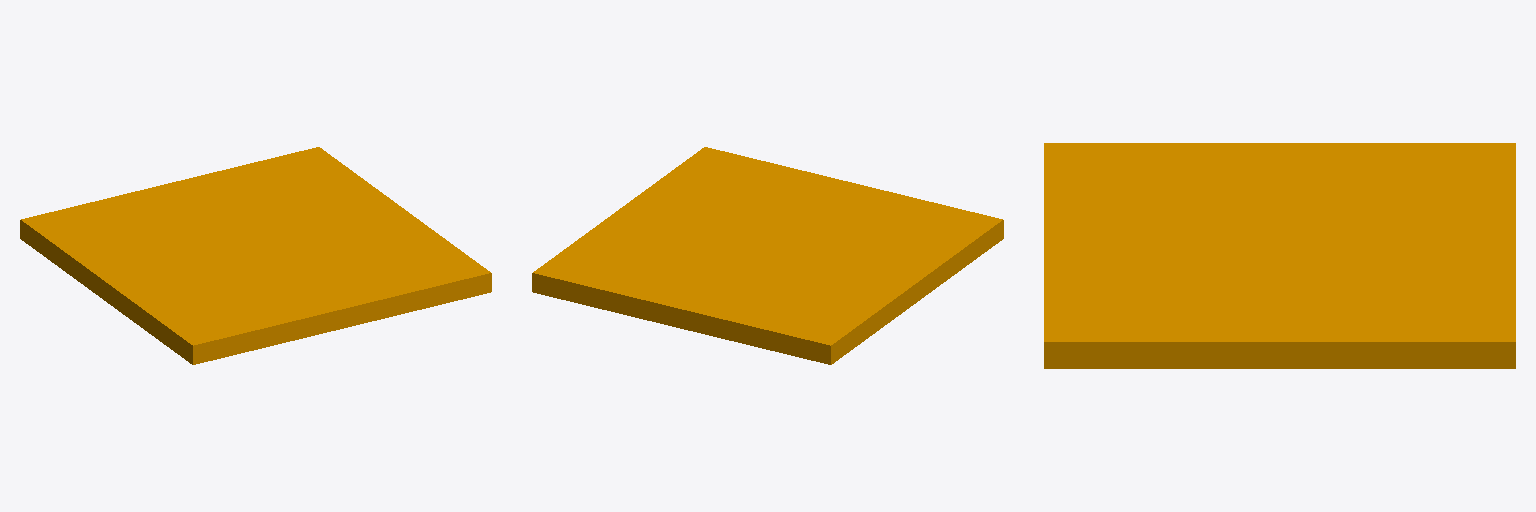
robot.urdf — unnamed:
<?xml version="1.0"?>
<!-- created with Phobos 1.0.1 "Capricious Choutengan" -->
  <robot name="unnamed">

    <link name="base_link">
      <inertial>
        <origin xyz="0 0 0" rpy="0 0 0"/>
        <mass value="0.001"/>
        <inertia ixx="0.001" ixy="0" ixz="0" iyy="0.001" iyz="0" izz="0.001"/>
      </inertial>
      <visual name="visual_Cube">
        <origin xyz="0 0 0" rpy="0 0 0"/>
        <geometry>
          <box size="16.0 16.0 1.0"/>
        </geometry>
      </visual>
      <collision name="collision_Cube">
        <origin xyz="0 0 0" rpy="0 0 0"/>
        <geometry>
          <box size="16.0 16.0 1.0"/>
        </geometry>
      </collision>
    </link>

    <link name="link_cog">
      <inertial>
        <origin xyz="0 0 0" rpy="0 0 0"/>
        <mass value="0.001"/>
        <inertia ixx="0.001" ixy="0" ixz="0" iyy="0.001" iyz="0" izz="0.001"/>
      </inertial>
      <visual name="visual_Torus">
        <origin xyz="0 0 0" rpy="0 0 0"/>
        <geometry>
          <mesh filename="file://[local-path]/ba/puzzle-generator/puzzles/sampleworld/meshes/stl/Torus.002.stl" scale="1.0 1.0 1.0"/>
        </geometry>
        <material name="Material.002"/>
      </visual>
      <collision name="collision_Torus">
        <origin xyz="0 0 0" rpy="0 0 0"/>
        <geometry>
          <mesh filename="file://[local-path]/ba/puzzle-generator/puzzles/sampleworld/meshes/stl/Torus.003.stl" scale="1.0 1.0 1.0"/>
        </geometry>
      </collision>
    </link>

    <joint name="link_cog" type="continuous">
      <origin xyz="0 0 0.53454" rpy="0 0 0"/>
      <parent link="base_link"/>
      <child link="link_cog"/>
      <axis xyz="0 0 1.0"/>
      <limit effort="0" velocity="0"/>
    </joint>

    <material name="Material.002">
      <color rgba="0.8 0.8 0.8 1.0"/>
    </material>

  </robot>

--- Facts derived from the render (not from the file) ---
The picture shows the robot from 3 angles, left to right: view 1: azimuth 30°, elevation 25°; view 2: azimuth 150°, elevation 25°; view 3: azimuth 270°, elevation 25°; orthographic projection.
Robot: unnamed — 2 links, 1 joints (1 continuous); root link base_link; default pose: every joint at zero.
Links seen in each view (by area): view 1: base_link; view 2: base_link; view 3: base_link.
Boxes of the visible links, x1,y1,x2,y2 form: base_link: (20, 147, 491, 364); base_link: (532, 147, 1003, 364); base_link: (1044, 143, 1515, 368).
Size in the robot's own frame: 16 by 16 by 1 metres.
Geometry: only primitive shapes (box / cylinder / sphere) drawn; not drawn: 1 mesh visual (reference in a form the renderer does not follow).